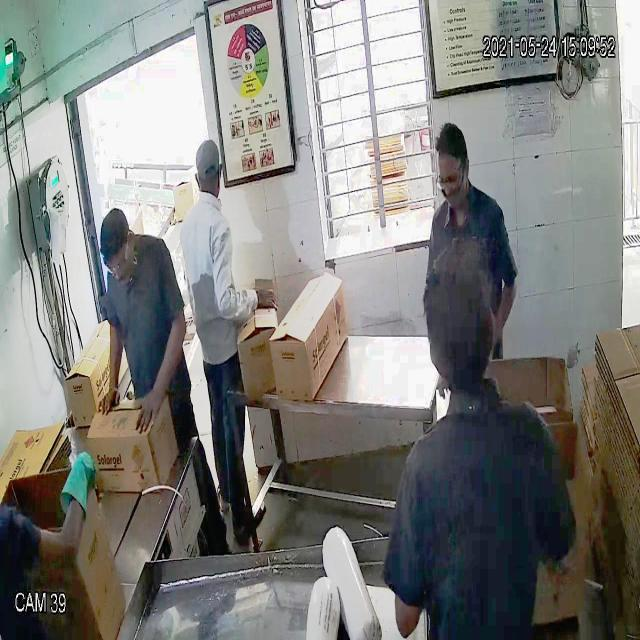glasses: (430, 162, 468, 194), (101, 241, 129, 277)
